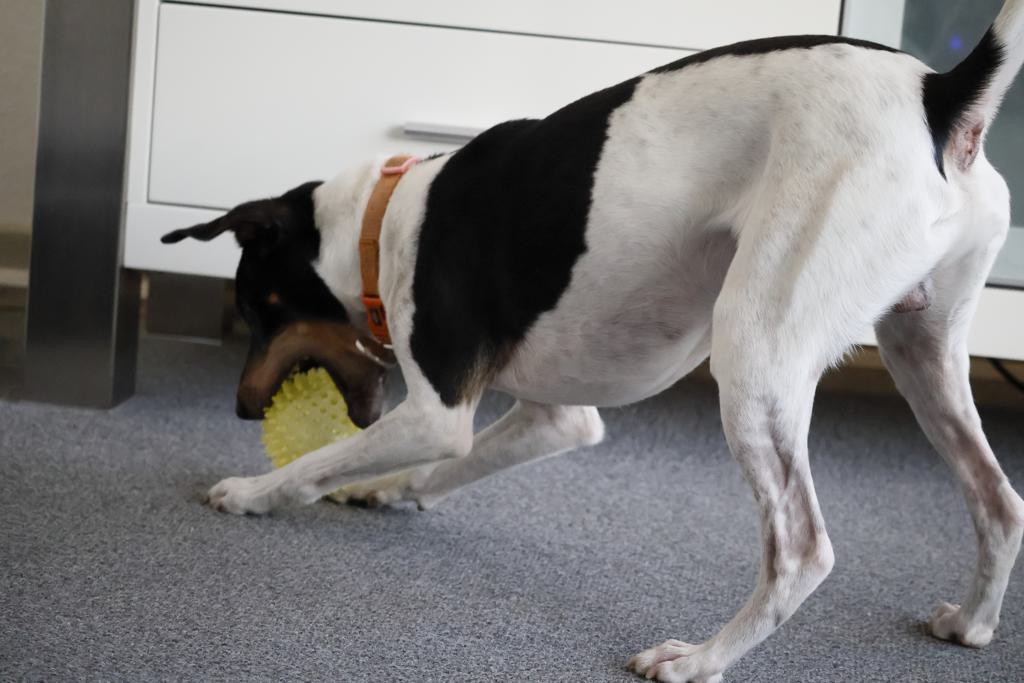Dog: (158, 0, 1024, 683)
